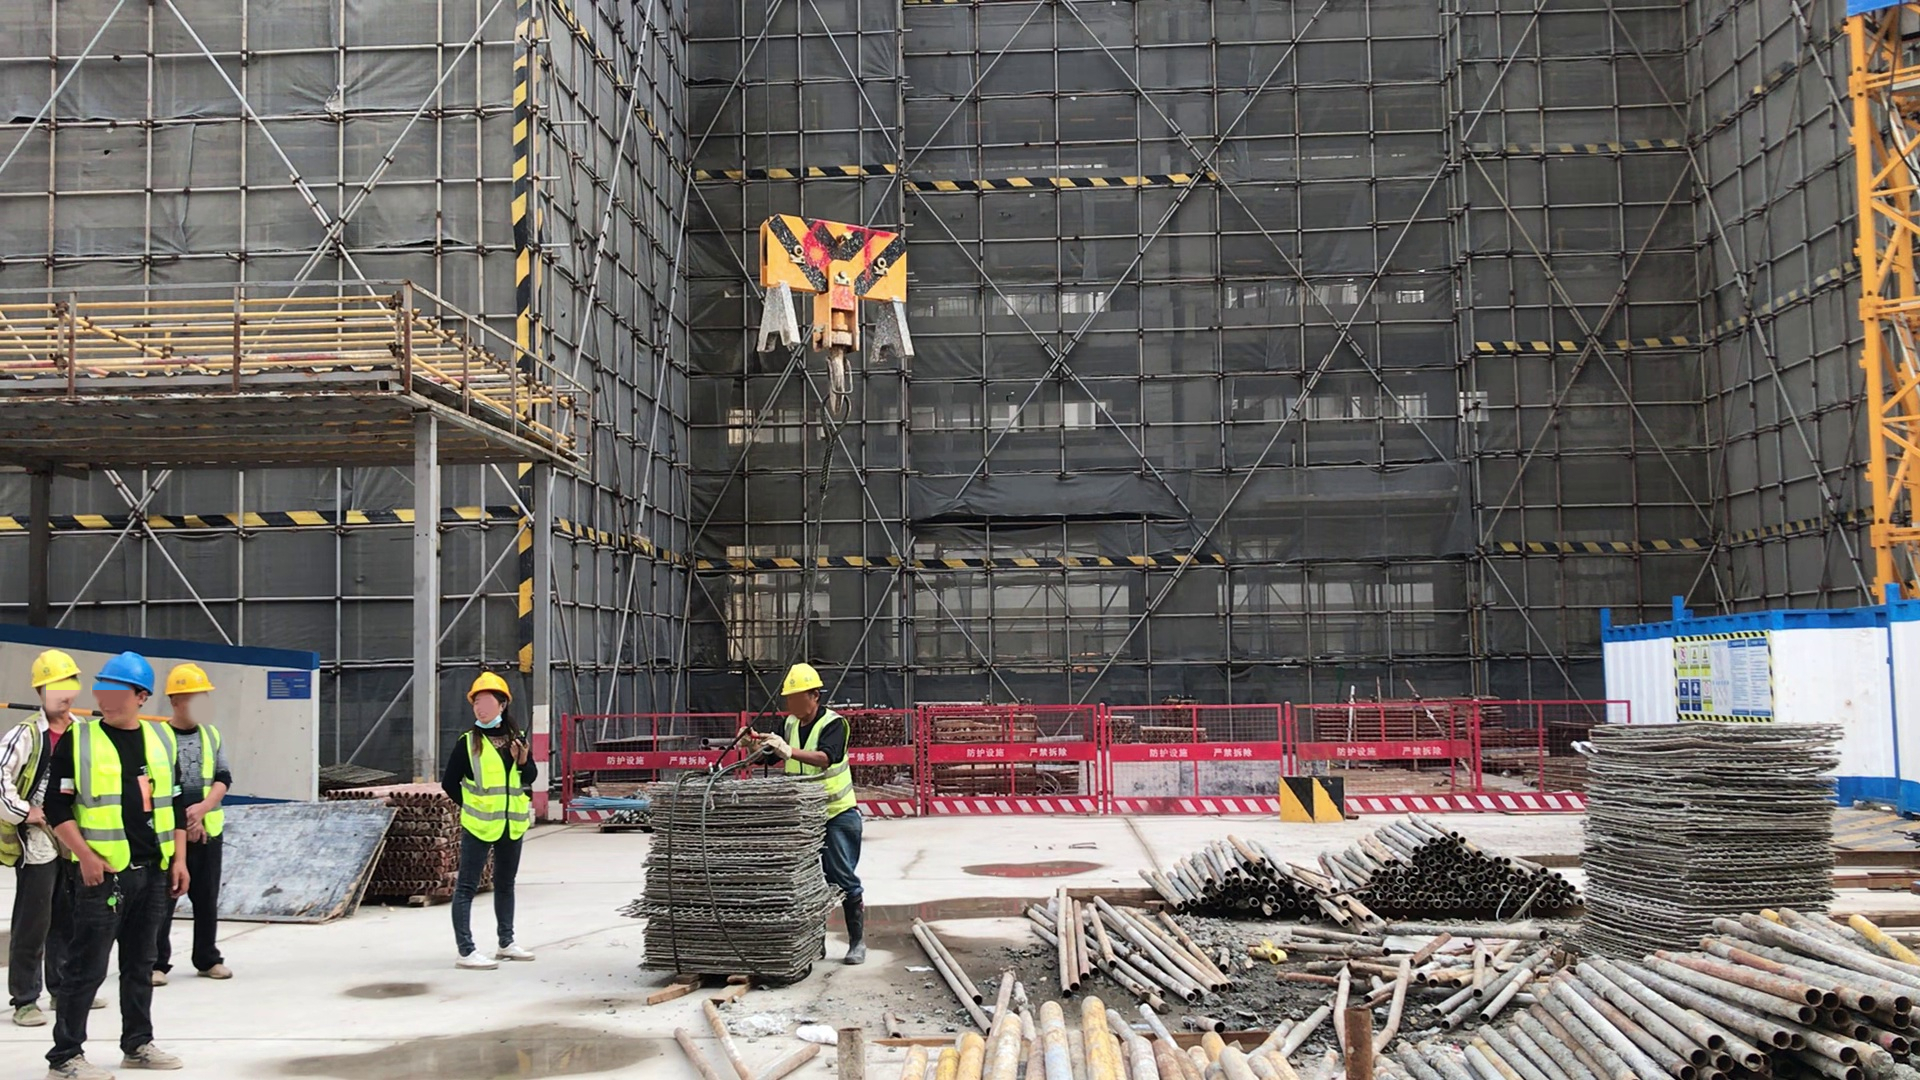fence: (565, 703, 1628, 823)
helmet: (92, 643, 155, 697), (27, 647, 82, 689), (774, 657, 824, 696), (463, 668, 511, 703), (165, 662, 213, 696)
hook: (758, 208, 917, 411)
person: (46, 652, 183, 1080), (733, 664, 865, 968), (1, 650, 107, 1028), (443, 672, 538, 970), (152, 664, 233, 986)
scaffold: (1582, 722, 1842, 956), (650, 783, 825, 977), (379, 788, 459, 906)
vest: (70, 716, 174, 873), (148, 719, 227, 845), (458, 727, 532, 846), (783, 711, 852, 823)
